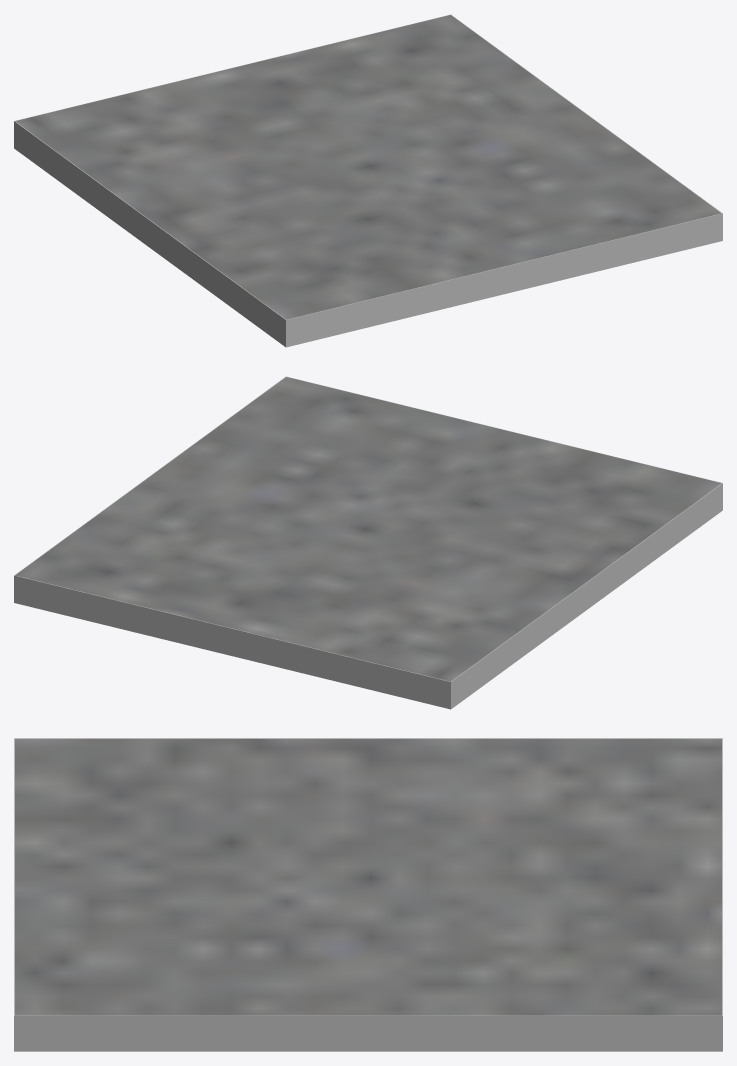
3 views of the same model, one above another, from view 1: azimuth 30°, elevation 25°; view 2: azimuth 150°, elevation 25°; view 3: azimuth 270°, elevation 25° (orthographic). The views are drawn at different scales.
Visible parts, largest first — view 1: BB_001_a00; view 2: BB_001_a00; view 3: BB_001_a00.
Boxes of the visible parts, box(x1,y1,x2,y2) form: BB_001_a00: box(14, 14, 722, 347); BB_001_a00: box(14, 376, 722, 709); BB_001_a00: box(14, 738, 722, 1051).
Size of the model in its own units: 33.39 by 2 by 36.
